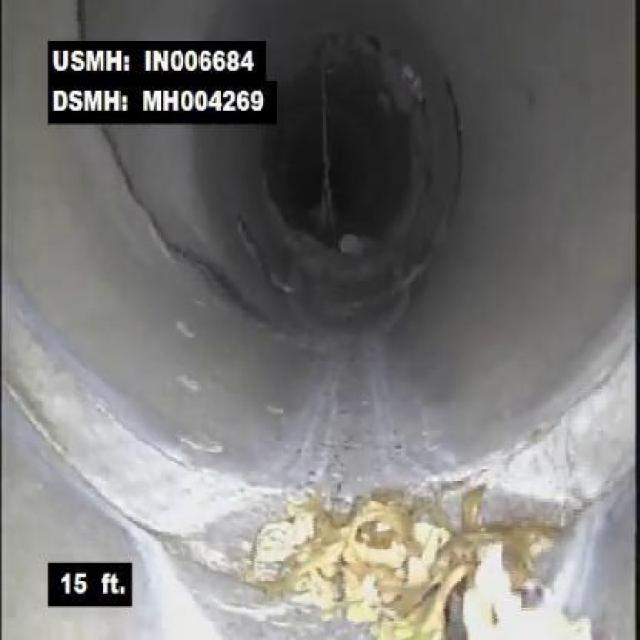Joint offset: (8, 303, 262, 562)
